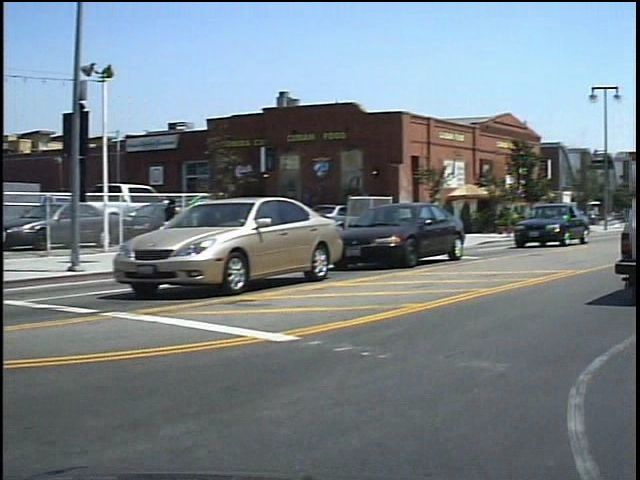person: (168, 190, 195, 256)
